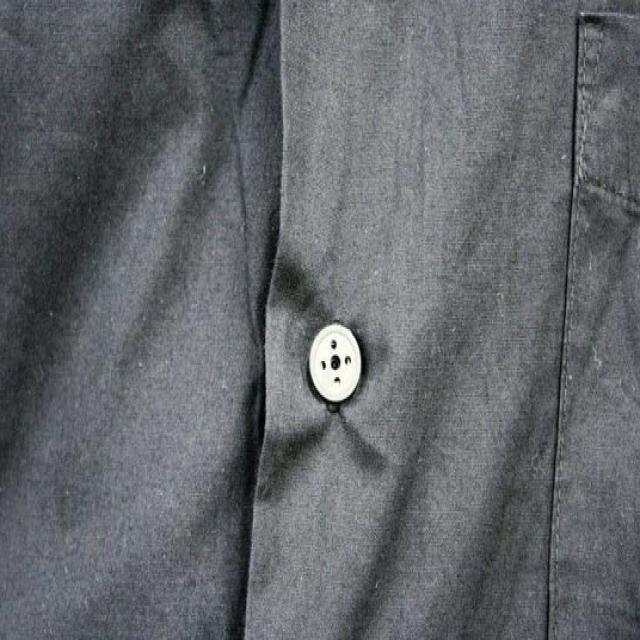hidden camera: (330, 353, 341, 371)
